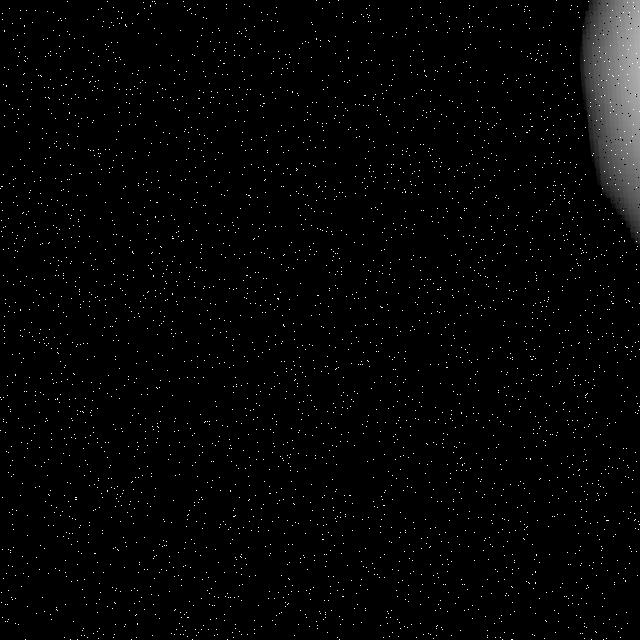person: (565, 1, 640, 386)
